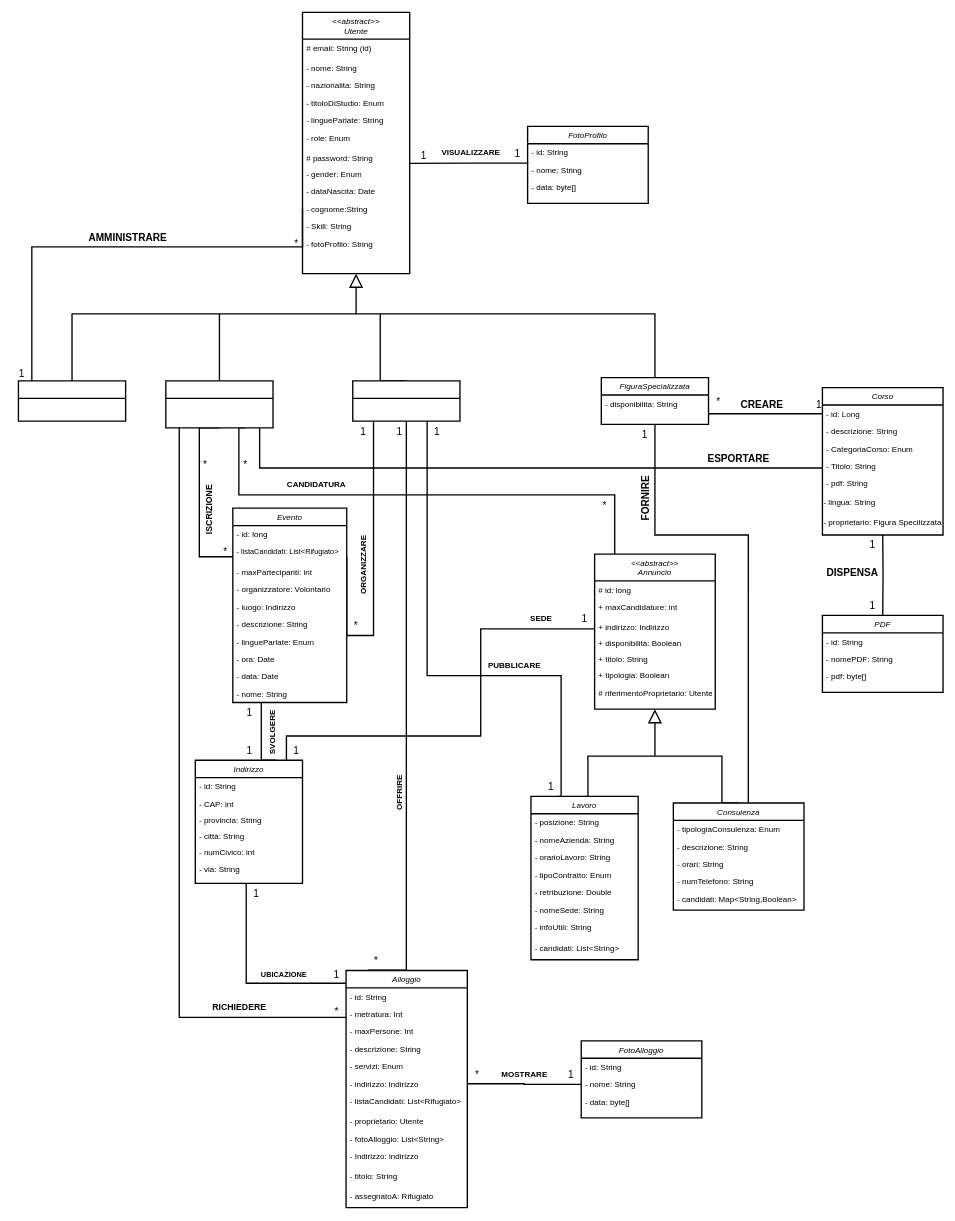
Some shapes in this 955 by 1221 pixel diagram are drawn without their labels. Here are the shapes that lost their labels. From the top down, the centre of each, then its label:
At point 71,400: "Admin".
At point 219,404: "Rifugiato".
At point 406,400: "Volontario".
